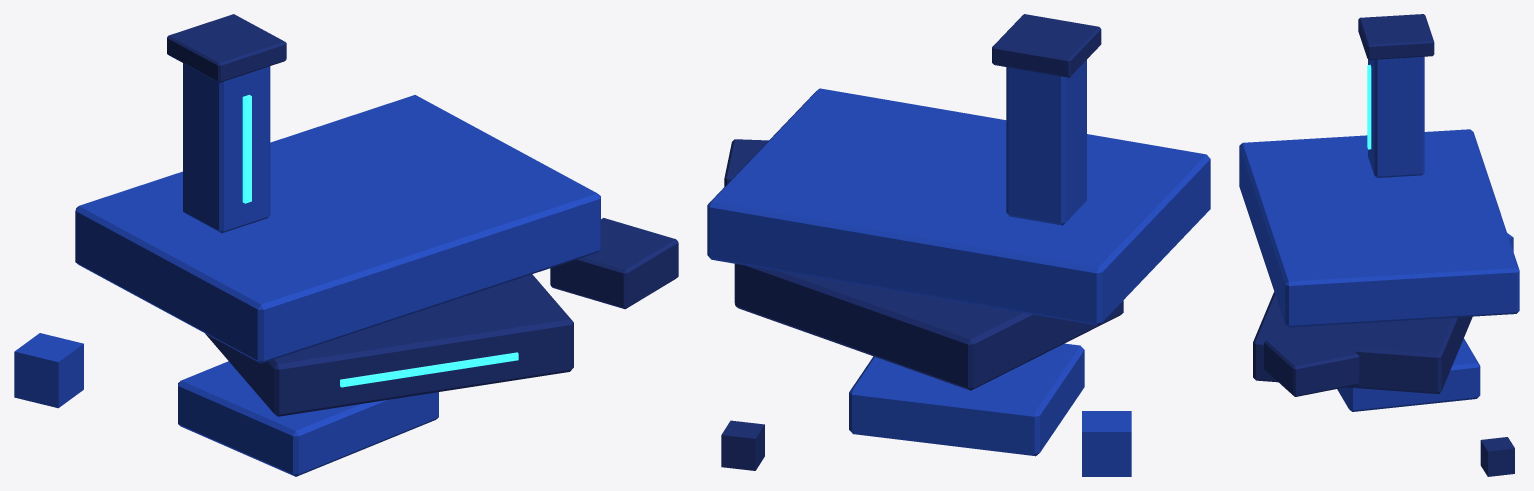
File: w01_island_cluster_b.glb
3 views of the same model, side by side, from view 1: azimuth 30°, elevation 25°; view 2: azimuth 150°, elevation 25°; view 3: azimuth 270°, elevation 25° (orthographic). The views are drawn at different scales.
Visible parts, largest first — view 1: ClusterB_Blue, ClusterB_Navy, ClusterB_Seams; view 2: ClusterB_Blue, ClusterB_Navy; view 3: ClusterB_Blue, ClusterB_Navy, ClusterB_Seams.
Boxes of the visible parts, <box> form: ClusterB_Blue: <box>14,63,600,476</box>; ClusterB_Navy: <box>167,14,678,416</box>; ClusterB_Seams: <box>242,94,518,387</box>; ClusterB_Blue: <box>707,60,1210,476</box>; ClusterB_Navy: <box>721,14,1123,470</box>; ClusterB_Blue: <box>1239,56,1519,411</box>; ClusterB_Navy: <box>1253,14,1514,476</box>; ClusterB_Seams: <box>1367,64,1371,149</box>.
Size of the model in its own units: 8.53 by 6.8 by 4.98.
